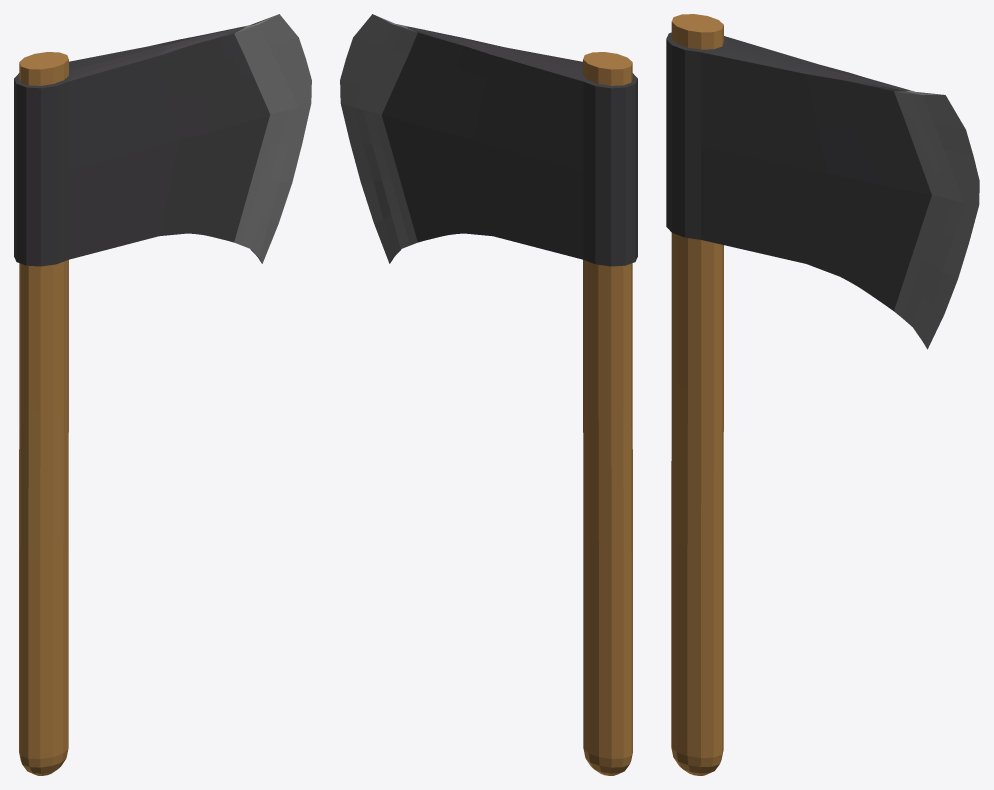
The model's file is Axe.fbx.
3 renders of one model, left to right at view 1: azimuth 30°, elevation 25°; view 2: azimuth 150°, elevation 25°; view 3: azimuth 330°, elevation 25°, orthographic. The views are drawn at different scales.
Parts seen in each view (by area): view 1: Blade, Handle; view 2: Blade, Handle; view 3: Blade, Handle.
Part boxes in pixels (x1,y1,x2,y2): Blade: (14, 14, 311, 266); Handle: (19, 52, 68, 775); Blade: (340, 14, 637, 266); Handle: (583, 52, 632, 775); Blade: (666, 32, 979, 349); Handle: (671, 14, 723, 775).
Size of the model in its own units: 1272 by 2937 by 185.
